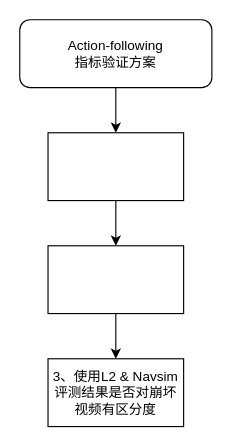
Some shapes in this 232 by 446 pixel diagram are drawn without their labels. The shapes that lost their labels are listed below. From the top down, each one's centre as x and y in pixels, then its label:
pixel 115 166: 1、选择驾驶场景 视频生成模型
pixel 115 279: 2、UniAD-Planner 预测轨迹
